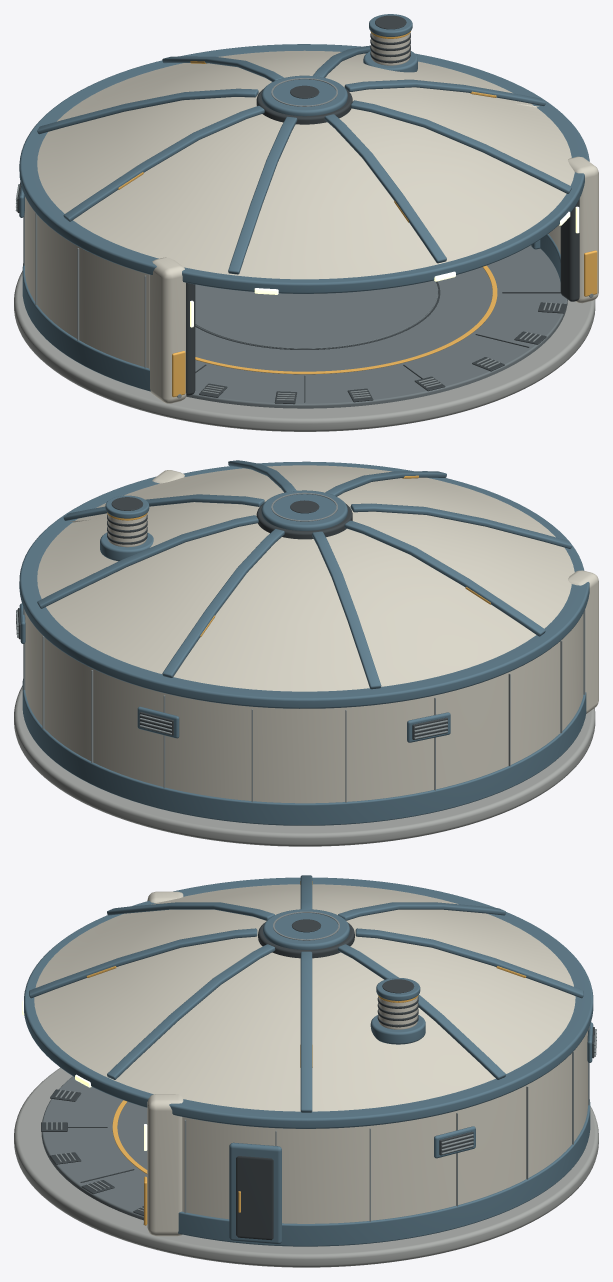
File: circular_drone_hangar.glb
3 renders of one model, top to bottom at view 1: azimuth 30°, elevation 25°; view 2: azimuth 150°, elevation 25°; view 3: azimuth 270°, elevation 25°, orthographic.
Parts seen in each view (by area): view 1: Softly domed continuous roof, Recessed dark service pad, Circular facility foundation, Central service circle, Thick circular hangar wall, Circular outer cornice, Broad curved opening lintel, Opening portal pier -1, Slate lower wall skirt, Roof central service cap, Opening portal pier 1, Roof radial rib 5 (+14 smaller); view 2: Softly domed continuous roof, Thick circular hangar wall, Circular outer cornice, Circular facility foundation, Slate lower wall skirt, Roof central service cap, Roof radial rib 5, Roof radial rib 2, Roof radial rib 3, Roof radial rib 4, Opening portal pier -1, Broad curved opening lintel (+8 smaller); view 3: Softly domed continuous roof, Thick circular hangar wall, Circular facility foundation, Circular outer cornice, Recessed dark service pad, Slate lower wall skirt, Opening portal pier 1, Broad curved opening lintel, Service doorway leaf, Roof central service cap, Service doorway surround, Roof radial rib 8 (+10 smaller).
Part boxes in pixels (left/top/right/bottom): Softly domed continuous roof: left=37, top=50, right=574, bottom=279; Recessed dark service pad: left=186, top=245, right=567, bottom=408; Circular facility foundation: left=14, top=271, right=595, bottom=431; Central service circle: left=195, top=280, right=437, bottom=348; Thick circular hangar wall: left=25, top=197, right=560, bottom=368; Circular outer cornice: left=19, top=44, right=589, bottom=274; Broad curved opening lintel: left=182, top=172, right=584, bottom=293; Opening portal pier -1: left=149, top=257, right=186, bottom=403; Slate lower wall skirt: left=22, top=234, right=560, bottom=391; Roof central service cap: left=261, top=75, right=347, bottom=116; Opening portal pier 1: left=568, top=156, right=598, bottom=303; Roof radial rib 5: left=63, top=105, right=264, bottom=221; Softly domed continuous roof: left=37, top=465, right=574, bottom=691; Thick circular hangar wall: left=25, top=612, right=583, bottom=803; Circular outer cornice: left=19, top=476, right=589, bottom=708; Circular facility foundation: left=14, top=685, right=595, bottom=846; Slate lower wall skirt: left=22, top=679, right=586, bottom=825; Roof central service cap: left=261, top=490, right=347, bottom=530; Roof radial rib 5: left=344, top=520, right=545, bottom=636; Roof radial rib 2: left=37, top=515, right=258, bottom=608; Roof radial rib 3: left=162, top=529, right=284, bottom=677; Roof radial rib 4: left=312, top=531, right=381, bottom=689; Opening portal pier -1: left=568, top=570, right=598, bottom=713; Broad curved opening lintel: left=183, top=461, right=584, bottom=571; Softly domed continuous roof: left=34, top=884, right=575, bottom=1111; Thick circular hangar wall: left=182, top=1031, right=587, bottom=1223; Circular facility foundation: left=14, top=1067, right=598, bottom=1267; Circular outer cornice: left=169, top=877, right=593, bottom=1128; Recessed dark service pad: left=41, top=1076, right=147, bottom=1220; Slate lower wall skirt: left=178, top=1099, right=590, bottom=1246; Opening portal pier 1: left=147, top=1094, right=183, bottom=1236; Broad curved opening lintel: left=24, top=900, right=155, bottom=1107; Service doorway leaf: left=236, top=1156, right=273, bottom=1240; Roof central service cap: left=263, top=909, right=349, bottom=949; Service doorway surround: left=229, top=1142, right=281, bottom=1244; Roof radial rib 8: left=107, top=944, right=275, bottom=1079.
Size of the model in its own units: 9.56 by 4.04 by 9.56.
